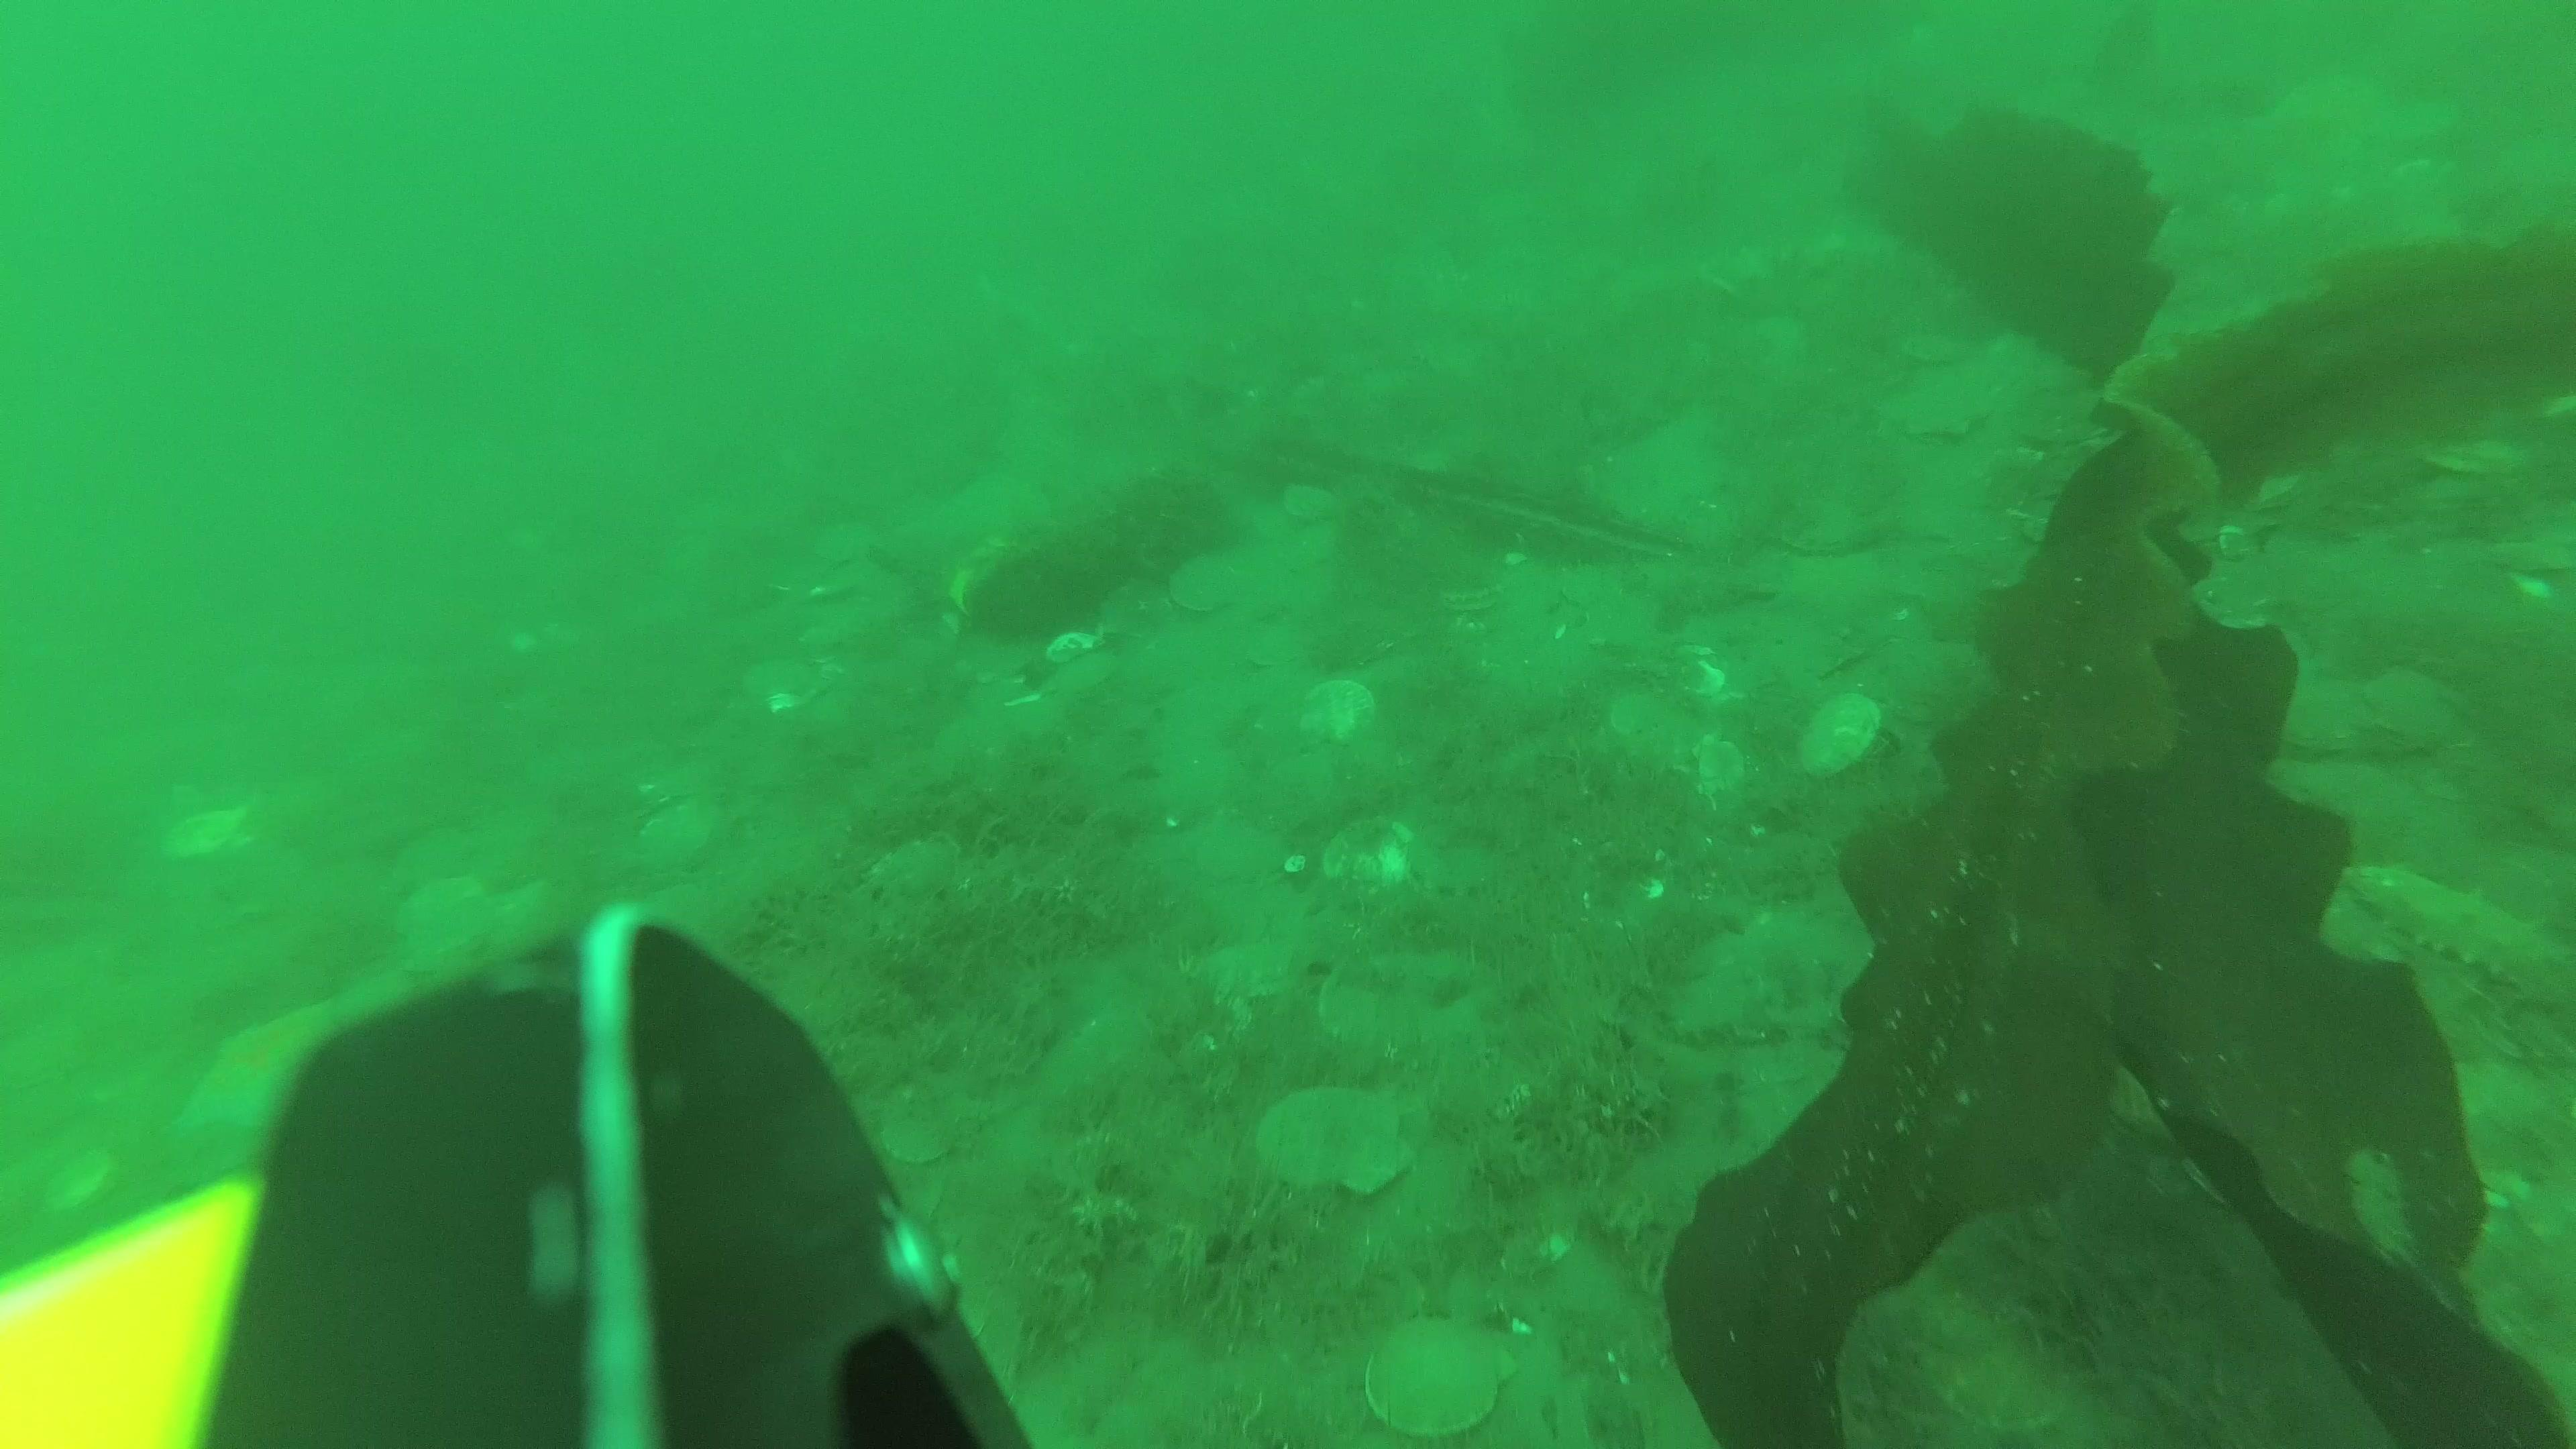holothurian: (2341, 847, 2576, 1019)
scallop: (1261, 1086, 1421, 1207), (1368, 1315, 1509, 1438), (2360, 658, 2454, 752), (395, 885, 492, 973), (1720, 326, 1817, 410), (1322, 816, 1422, 892), (879, 1086, 970, 1171), (1610, 686, 1706, 764), (640, 801, 732, 879), (1806, 694, 1881, 789), (172, 798, 249, 876), (1898, 377, 1994, 437), (748, 653, 824, 725), (1169, 550, 1240, 628), (1302, 678, 1378, 743)
starfish: (195, 1000, 334, 1150)
